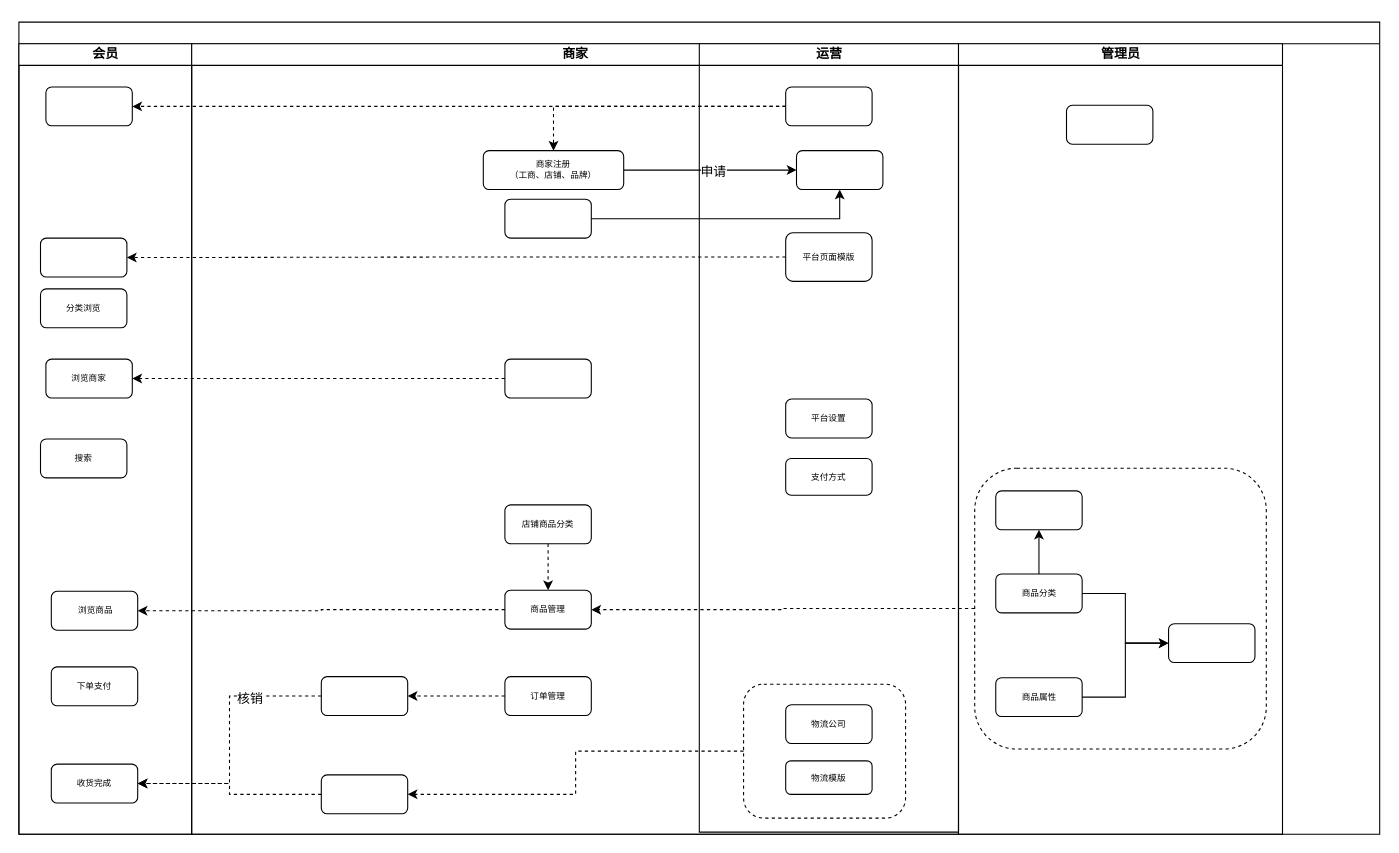
The diagram is 1399 pixels wide and 853 high, and some of its shapes have lost their labels. The shapes that lost their labels are listed below. From the top down, each one's centre as x and y in pixels, then its label:
At point (88, 106): "注册/登录".
At point (828, 106): "协议管理".
At point (1109, 124): "站点管理".
At point (839, 170): "商家管理".
At point (547, 218): "结算信息认证".
At point (83, 257): "浏览首页".
At point (547, 378): "商家页面模版".
At point (1038, 510): "商品成色".
At point (1211, 643): "商品款式".
At point (364, 696): "线下体验店".
At point (364, 794): "物流发货".
